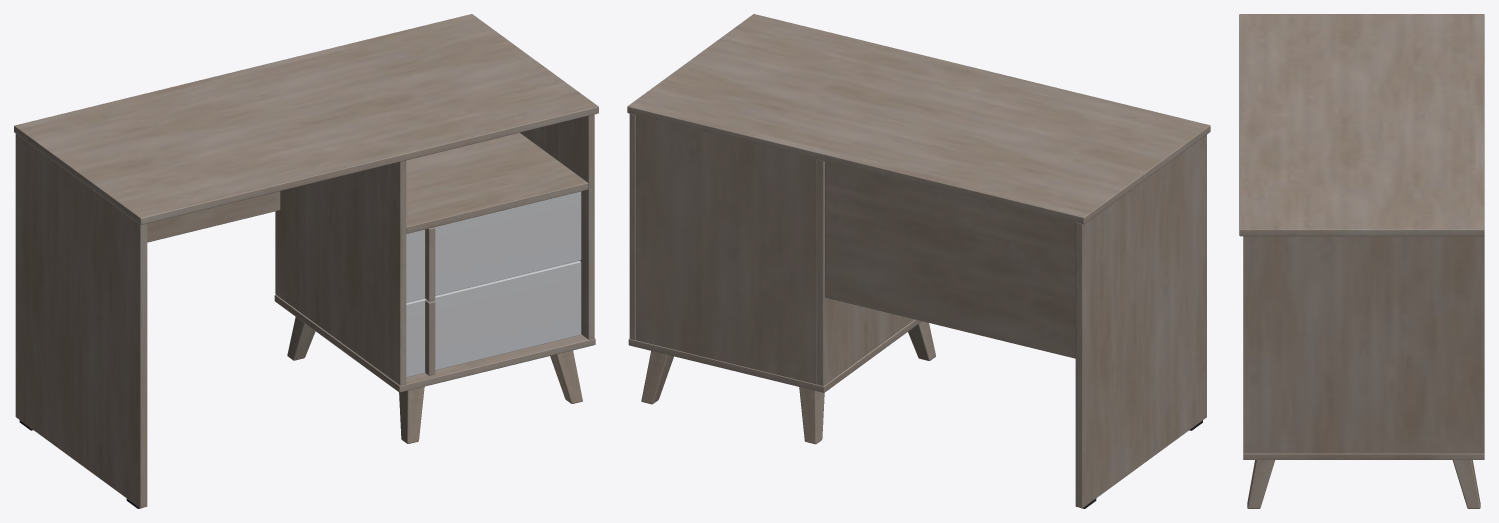
3 renders of one model, left to right at view 1: azimuth 30°, elevation 25°; view 2: azimuth 150°, elevation 25°; view 3: azimuth 270°, elevation 25°, orthographic. The views are drawn at different scales.
Visible parts, largest first — view 1: RootNode; view 2: RootNode; view 3: RootNode.
Part boxes in pixels (x1,y1,x2,y2): RootNode: [14, 14, 598, 508]; RootNode: [627, 14, 1210, 508]; RootNode: [1239, 14, 1484, 508].
Bounding box in the file's own units: 1.25 × 0.7704 × 0.6001.
1 material, 1 textured.
